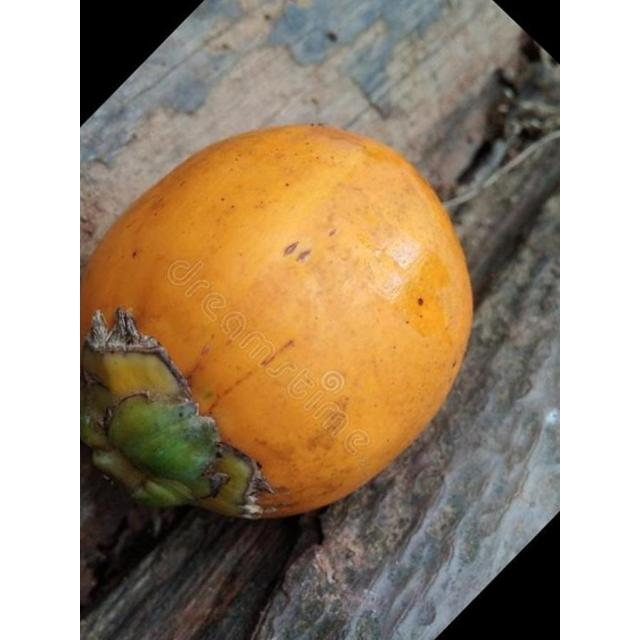good: (80, 122, 475, 524)
